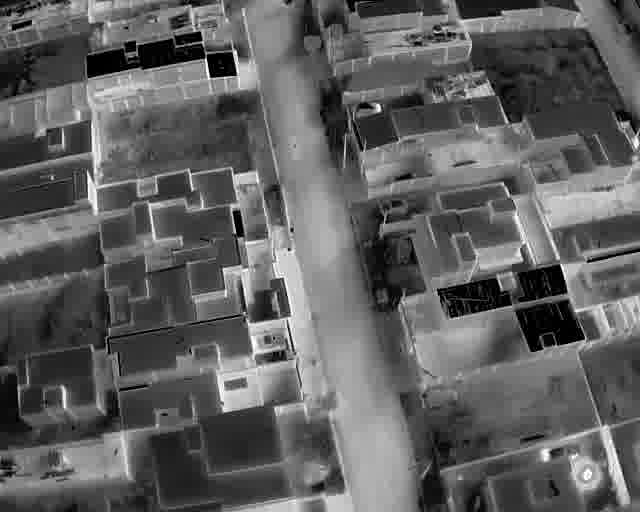car: (351, 102, 382, 118), (378, 198, 409, 214), (387, 171, 418, 184)
